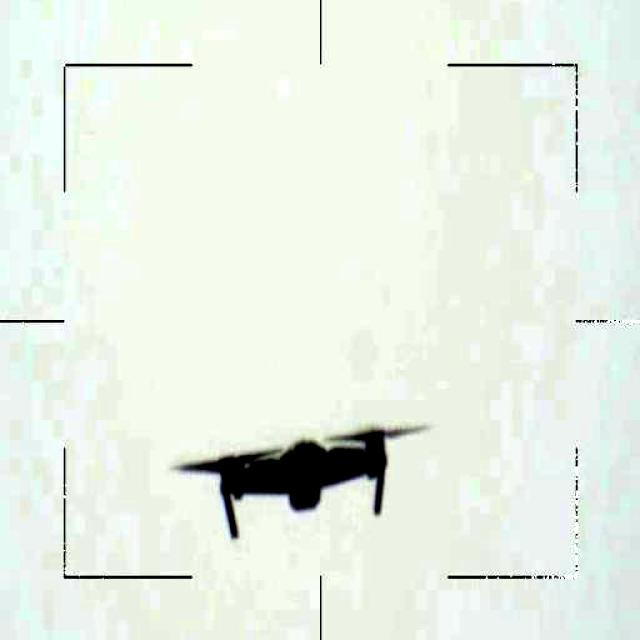bird: (169, 406, 434, 549)
